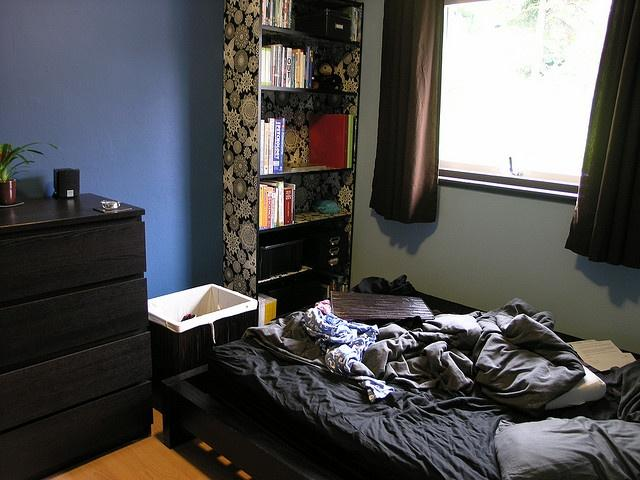Rak: (255, 0, 363, 325)
